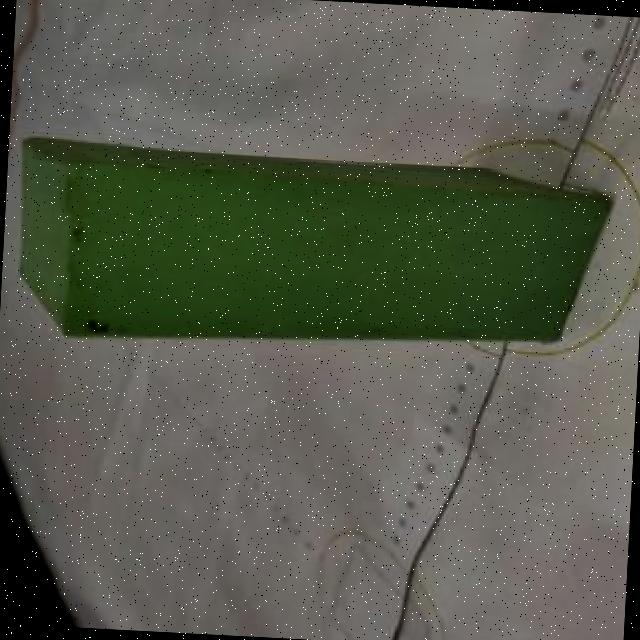greenbox: (11, 136, 620, 363)
